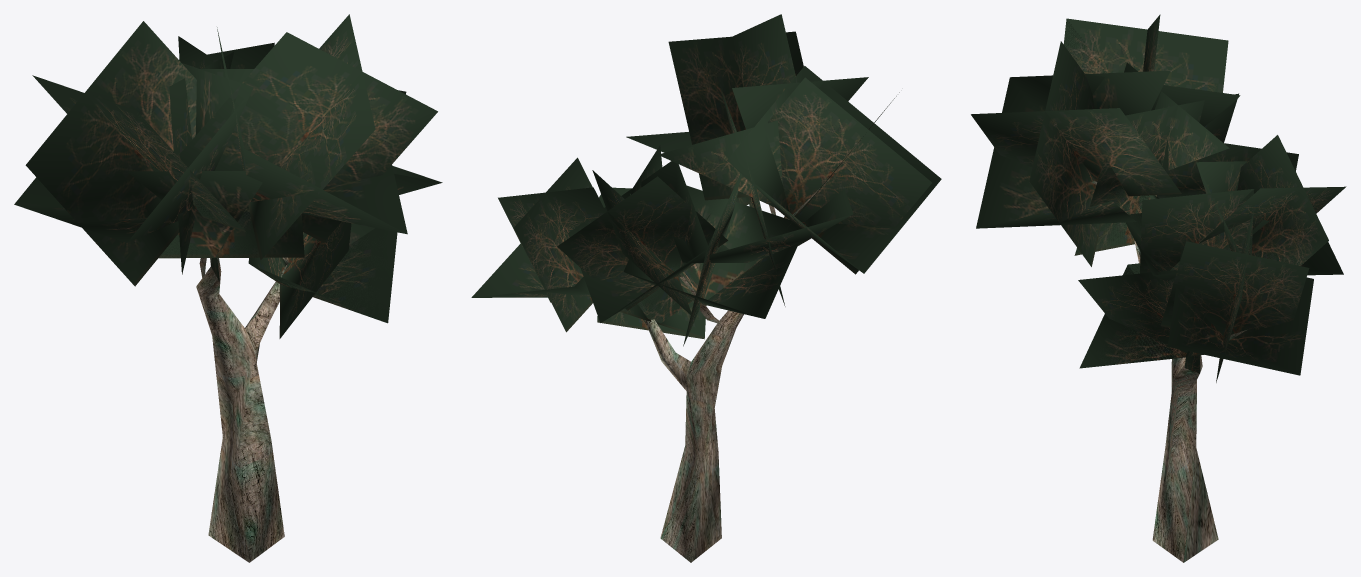
File: decd_dogwoodtreebranches_l2.fbx
3 views of the same model, side by side, from view 1: azimuth 30°, elevation 25°; view 2: azimuth 150°, elevation 25°; view 3: azimuth 270°, elevation 25° (orthographic). The views are drawn at different scales.
Visible parts, largest first — view 1: mesh_node; view 2: mesh_node; view 3: mesh_node.
Boxes of the visible parts, left/top/right/bottom form: mesh_node: left=14, top=14, right=442, bottom=562; mesh_node: left=471, top=14, right=941, bottom=562; mesh_node: left=971, top=14, right=1346, bottom=562.
Size of the model in its own units: 12.69 by 15.71 by 10.86.
